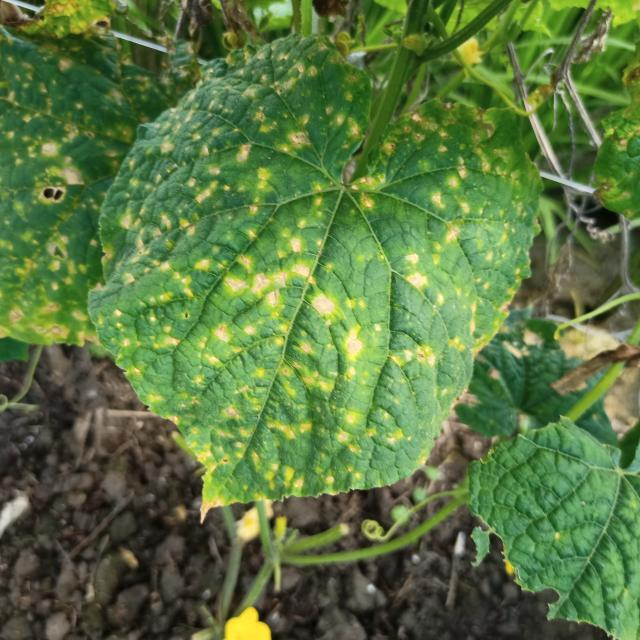disease_cucumber: (99, 42, 527, 500), (0, 25, 160, 341)
